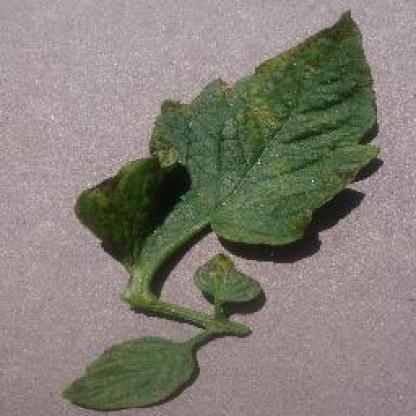bad leaf: (91, 172, 158, 234), (199, 251, 258, 314), (296, 12, 352, 76), (156, 105, 194, 167)
